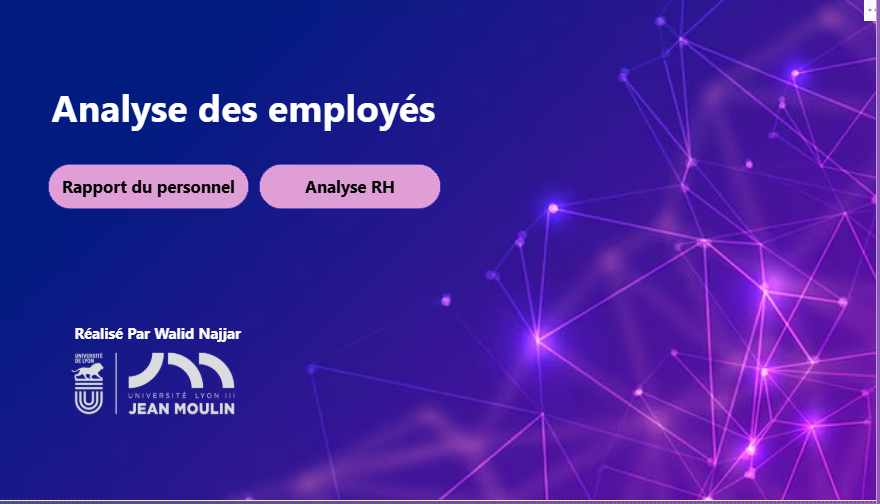

The page's visual inventory and layout, read from the dashboard file:
{"tool":"powerbi","page":{"name":"Page d'accueil","canvas":[1280,720],"ordinal":0},"visuals":[{"type":"image","box":[0,0,1280,720],"z":0},{"type":"textbox","box":[78.3,115,561.7,96.7],"z":1},{"type":"shape","box":[78.6,238.6,287.1,64.3],"z":2},{"type":"shape","box":[380,238.6,260,64.3],"z":4},{"type":"image","box":[78.3,473.3,300,158.3],"z":5},{"type":"textbox","box":[111.7,460,726.7,63.3],"z":6}]}

Visuals, with their boxes in screenshot pixels (x1, y1, x2, y2), scaled from the page's 1280x720 canvas onto the 880x504 screenshot:
image: BBox(0, 0, 879, 503)
textbox: BBox(54, 80, 440, 148)
shape: BBox(54, 167, 251, 212)
shape: BBox(261, 167, 440, 212)
image: BBox(54, 331, 260, 442)
textbox: BBox(77, 322, 576, 366)
